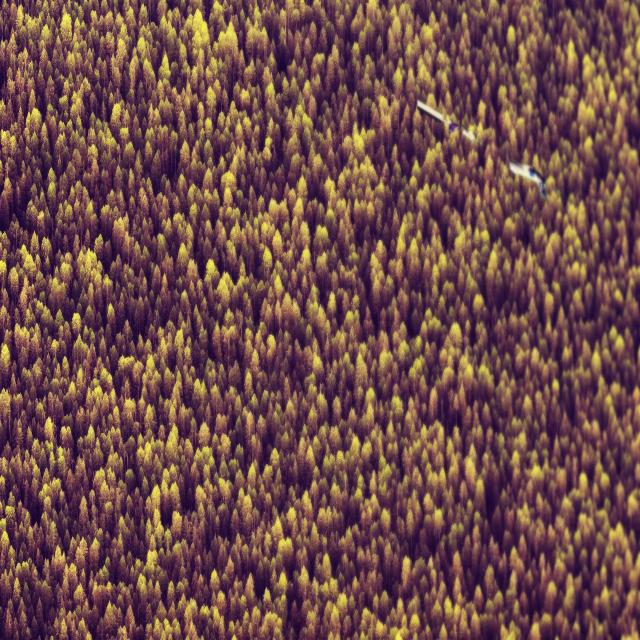airplane: (416, 98, 476, 143), (508, 157, 546, 199)
